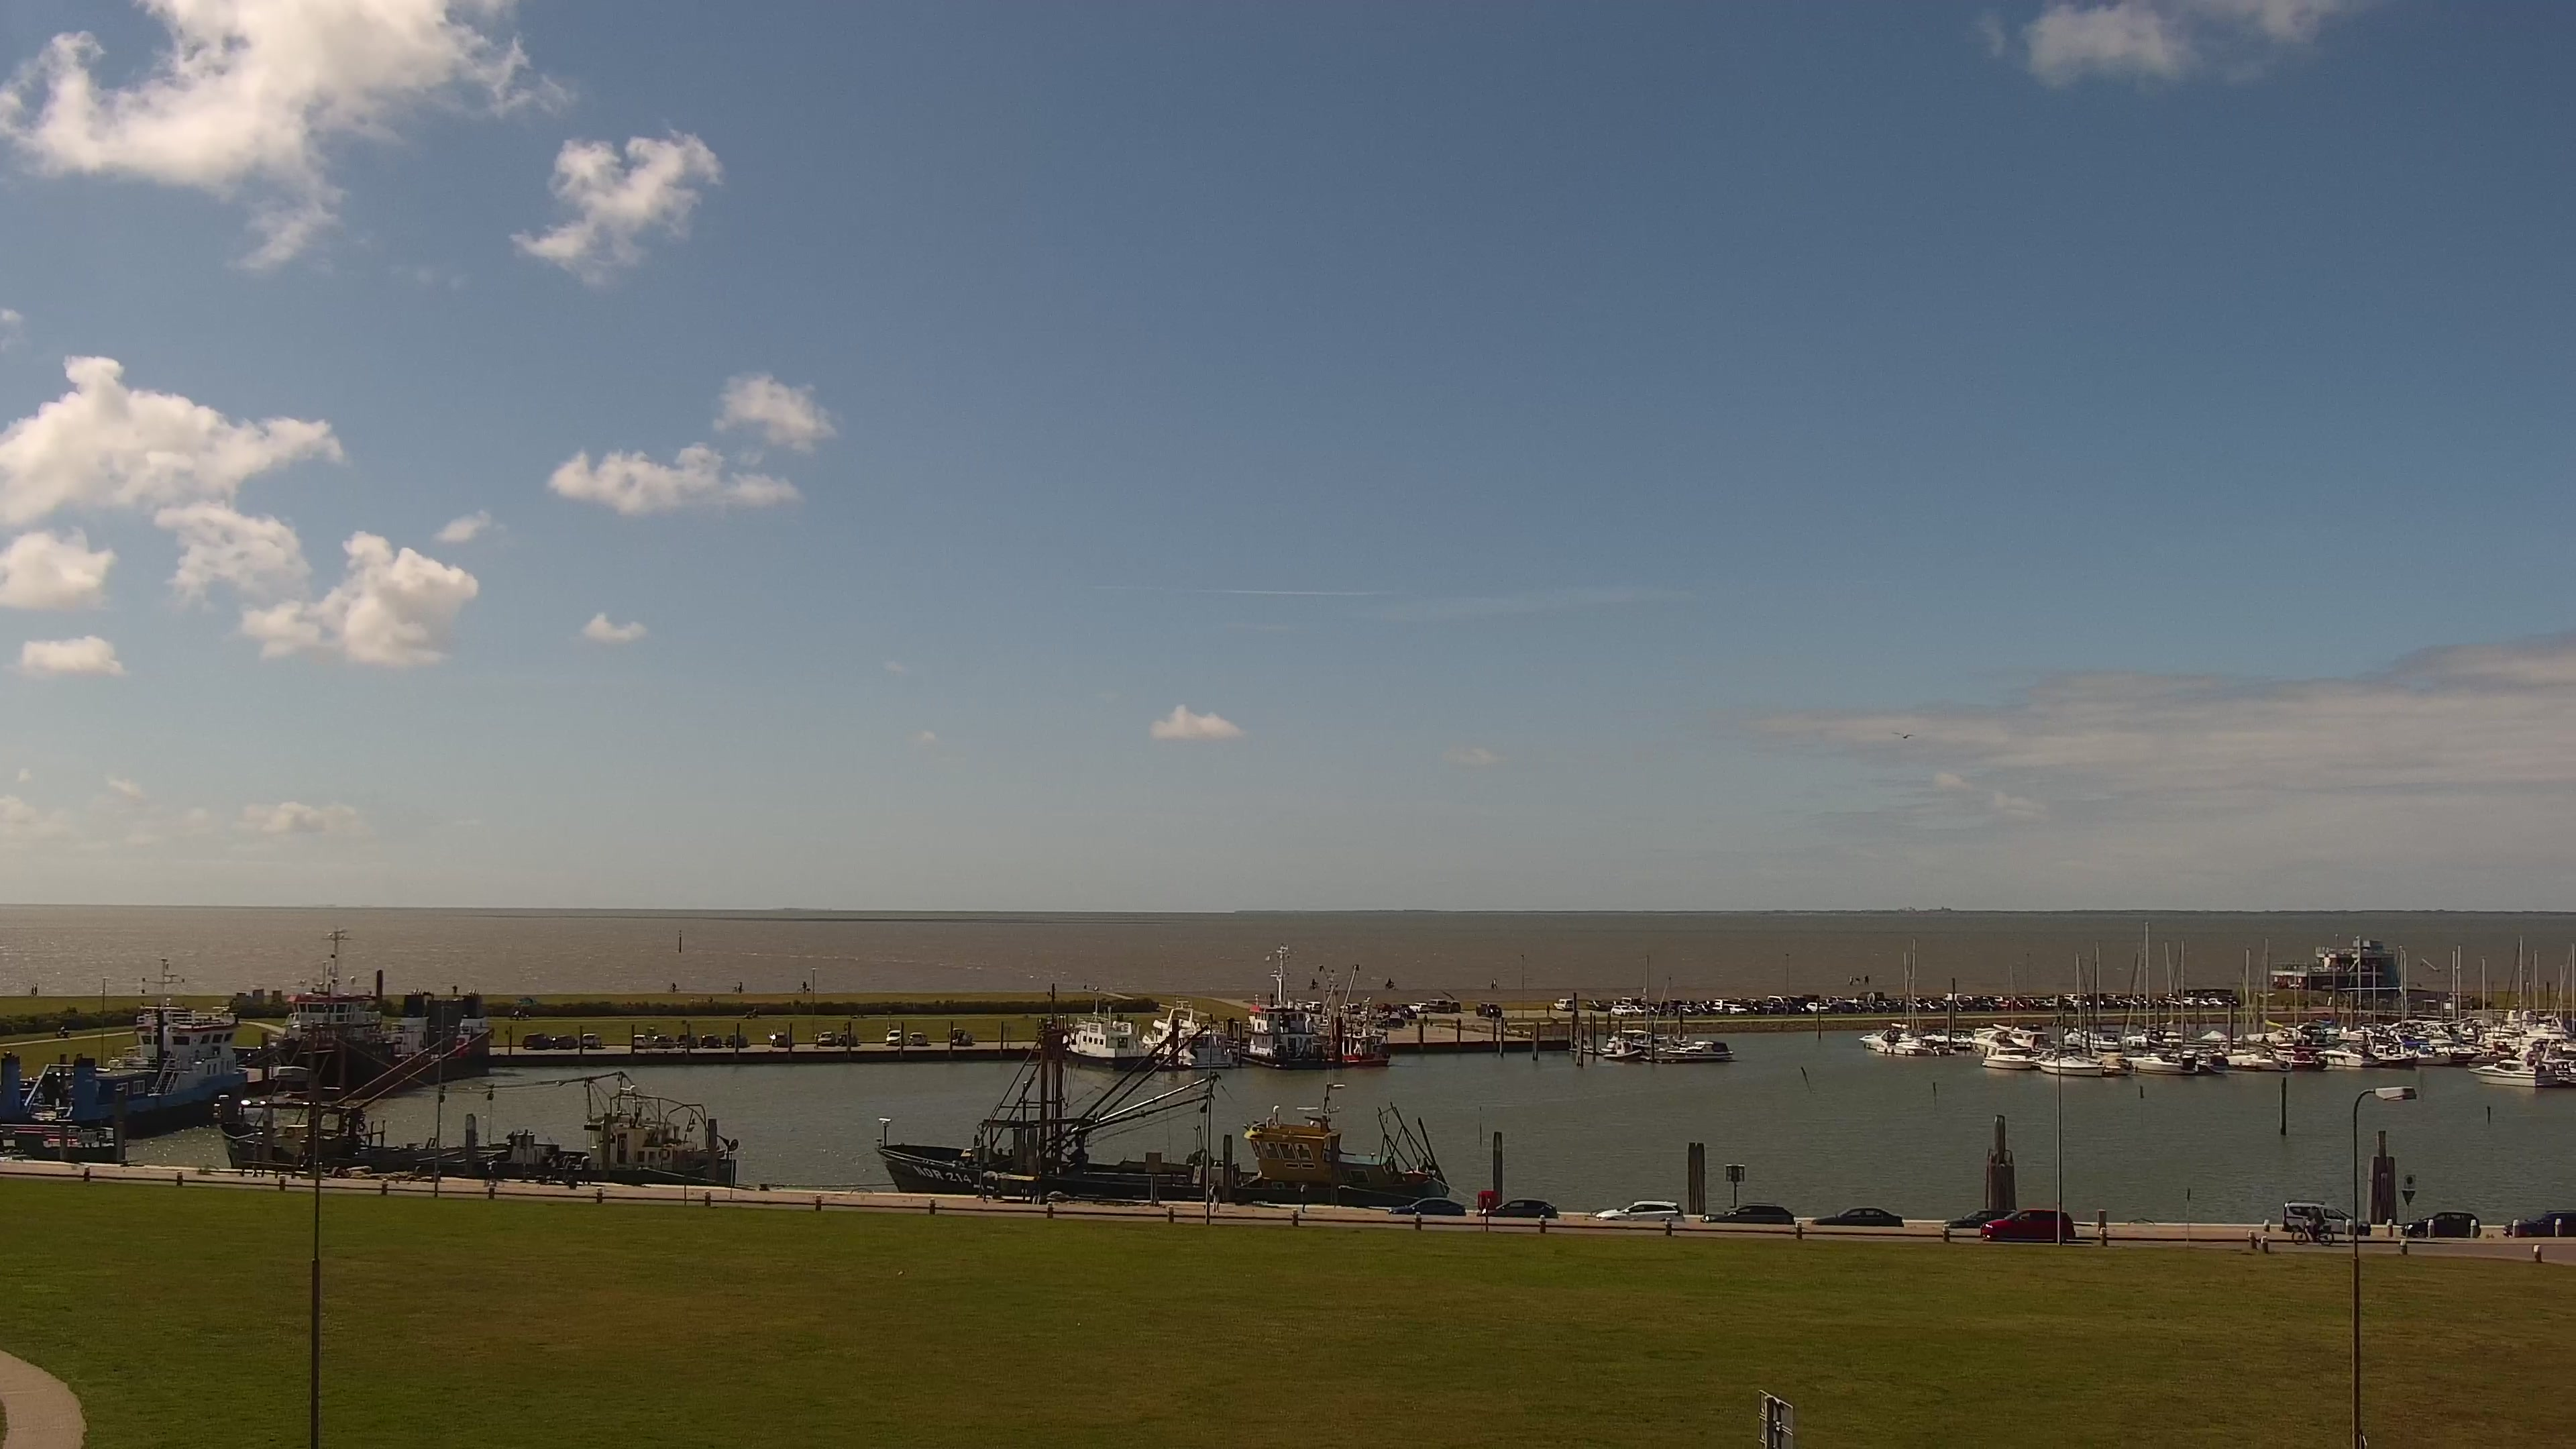human: (2305, 1204, 2324, 1242), (485, 1152, 497, 1187), (1208, 1179, 1221, 1214), (566, 1155, 578, 1185), (580, 1152, 591, 1185), (546, 1153, 557, 1186), (559, 1152, 570, 1182), (1299, 1182, 1307, 1214), (60, 1022, 68, 1036), (751, 1004, 758, 1020), (802, 981, 807, 995), (738, 979, 743, 992), (1311, 977, 1316, 989), (1848, 973, 1854, 986), (513, 1008, 519, 1020), (452, 984, 458, 994), (670, 982, 676, 992), (1387, 977, 1393, 987), (1864, 974, 1869, 985), (34, 981, 38, 996), (31, 983, 34, 996), (1493, 977, 1497, 987), (1491, 978, 1495, 987)
land: (1981, 1207, 2076, 1242), (2277, 1199, 2372, 1236), (2400, 1210, 2481, 1238), (1699, 1202, 1795, 1224), (2501, 1208, 2575, 1237), (1595, 1199, 1684, 1222), (1812, 1206, 1904, 1227), (1476, 1197, 1558, 1219), (1388, 1196, 1465, 1216), (1941, 1208, 2015, 1228), (2290, 1217, 2333, 1245), (522, 1033, 552, 1051), (1476, 1001, 1503, 1018), (1694, 1003, 1730, 1015), (949, 1028, 973, 1046), (1766, 995, 1792, 1010), (553, 1034, 578, 1051), (652, 1034, 676, 1049), (676, 1034, 698, 1049), (699, 1034, 722, 1049), (1426, 998, 1448, 1013), (1741, 1002, 1766, 1016), (1857, 991, 1886, 1004), (580, 1033, 602, 1049), (908, 1032, 929, 1047), (725, 1032, 748, 1048), (836, 1033, 857, 1047), (885, 1029, 903, 1046), (632, 1032, 651, 1049), (770, 1031, 789, 1046), (1611, 1005, 1634, 1017), (1722, 1004, 1746, 1015), (1762, 1001, 1786, 1014), (1805, 1002, 1830, 1014), (1553, 998, 1574, 1012), (1338, 1002, 1360, 1014), (1860, 1002, 1882, 1013), (817, 1030, 835, 1046), (2161, 995, 2182, 1008), (1408, 1002, 1430, 1014), (1371, 1002, 1392, 1014), (1834, 1002, 1856, 1014), (1877, 1000, 1894, 1014), (1677, 1004, 1700, 1016), (1788, 1004, 1811, 1014), (1585, 999, 1607, 1010), (1711, 998, 1732, 1009), (2207, 998, 2227, 1008), (1304, 1000, 1322, 1012), (2121, 997, 2139, 1008), (1391, 1003, 1410, 1013), (1630, 1006, 1649, 1015), (1788, 995, 1807, 1004), (1921, 1002, 1941, 1012), (2037, 998, 2055, 1008), (2065, 1000, 2084, 1010), (1942, 993, 1966, 1002), (1979, 998, 1996, 1010), (1955, 999, 1972, 1012), (2013, 998, 2029, 1011), (2182, 997, 2198, 1008), (1399, 1008, 1417, 1020), (1619, 997, 1641, 1006), (1648, 1006, 1666, 1016), (2150, 998, 2167, 1008), (1447, 1001, 1462, 1014), (1668, 998, 1684, 1008), (1828, 995, 1844, 1004), (2104, 993, 2121, 1001), (1844, 997, 1865, 1004), (2062, 992, 2078, 1001), (731, 984, 745, 992), (796, 983, 811, 993), (1984, 994, 2003, 1002), (666, 986, 680, 995), (1307, 981, 1320, 991), (1384, 981, 1397, 991), (2196, 998, 2208, 1007), (1892, 997, 1906, 1004)
sea: (875, 1012, 1448, 1207), (213, 1018, 740, 1185), (1, 955, 250, 1136), (269, 924, 490, 1073), (1222, 941, 1336, 1069), (2121, 939, 2204, 1075), (2070, 937, 2133, 1075), (2223, 936, 2287, 1071), (1062, 983, 1155, 1071), (1316, 961, 1390, 1066), (1139, 990, 1232, 1069), (1, 1106, 125, 1163), (1875, 937, 1935, 1055), (1635, 975, 1692, 1049), (2465, 1058, 2557, 1087), (2121, 940, 2147, 1048), (2039, 1045, 2104, 1077), (2262, 1040, 2326, 1070), (2314, 1041, 2377, 1065), (1664, 1039, 1733, 1060), (1598, 1028, 1653, 1052), (1979, 1044, 2034, 1069), (1967, 1028, 2019, 1052), (2286, 1018, 2341, 1040), (2004, 1030, 2057, 1050), (2369, 1044, 2417, 1066), (1857, 1028, 1901, 1049), (1601, 1036, 1642, 1061), (2194, 1053, 2229, 1075), (2414, 1043, 2449, 1063), (2446, 1044, 2481, 1063), (2552, 1059, 2575, 1086), (2426, 1022, 2459, 1039), (2337, 1028, 2374, 1040), (1933, 1027, 1961, 1043), (1949, 1029, 1972, 1048), (1933, 1044, 1955, 1055)
